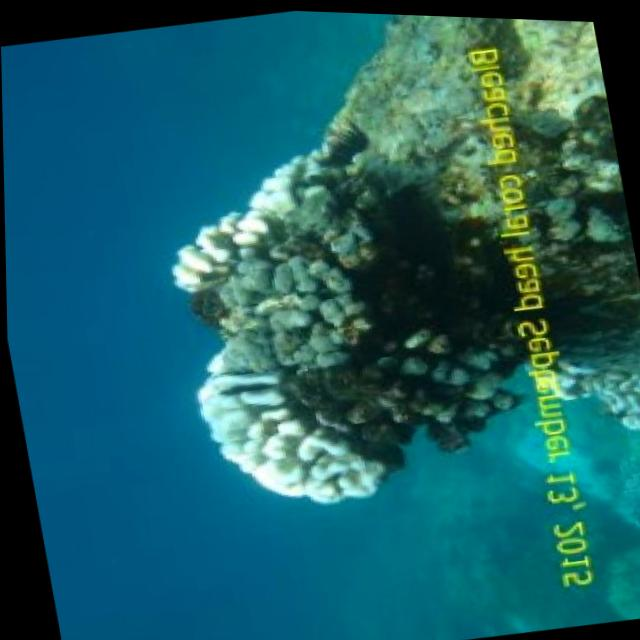Bleached Coral: (162, 338, 400, 539), (145, 138, 311, 319)
